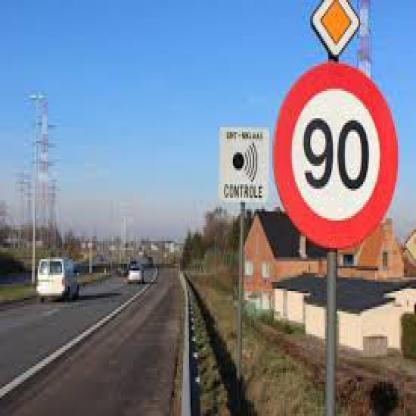Speed Limit -90-: (265, 63, 415, 255)
